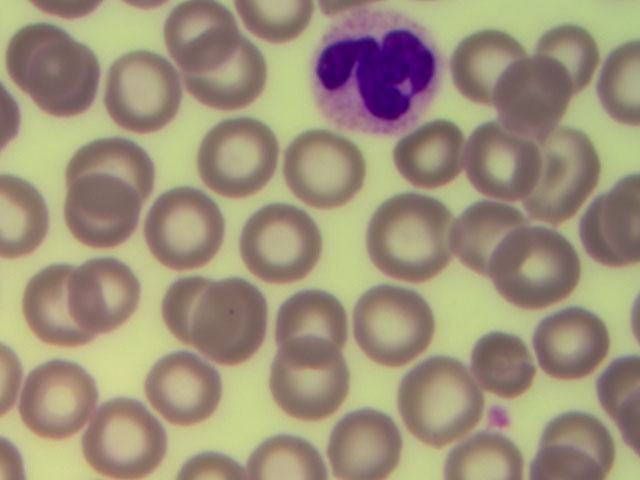Platelets: (485, 404, 510, 429)
RBC: (374, 200, 452, 275), (405, 358, 476, 439), (284, 139, 360, 212), (500, 53, 565, 135), (92, 403, 164, 477), (501, 233, 577, 303), (207, 122, 273, 199), (68, 258, 141, 327), (246, 206, 313, 281), (201, 283, 262, 365), (27, 267, 96, 337), (274, 346, 343, 416), (189, 39, 261, 105), (534, 128, 588, 216), (151, 194, 216, 267), (359, 291, 428, 359), (109, 57, 174, 129), (455, 203, 522, 272), (148, 357, 220, 421), (24, 364, 91, 432), (281, 295, 347, 361), (37, 43, 97, 115), (75, 145, 147, 205), (338, 410, 400, 478), (551, 412, 613, 479), (481, 122, 535, 198), (459, 34, 522, 99), (536, 315, 605, 371), (11, 29, 74, 89), (170, 8, 232, 68), (73, 180, 131, 243), (474, 337, 534, 391), (1, 178, 42, 254), (542, 28, 592, 90), (584, 197, 624, 270), (405, 134, 462, 185), (254, 440, 325, 480), (453, 437, 518, 480), (605, 182, 640, 260), (235, 1, 312, 34), (609, 45, 640, 125), (538, 448, 611, 480), (169, 278, 209, 335), (602, 359, 640, 414), (184, 459, 252, 480), (1, 437, 28, 480), (1, 341, 15, 416), (1, 90, 17, 143), (634, 296, 640, 344)
WBC: (318, 21, 435, 128)
